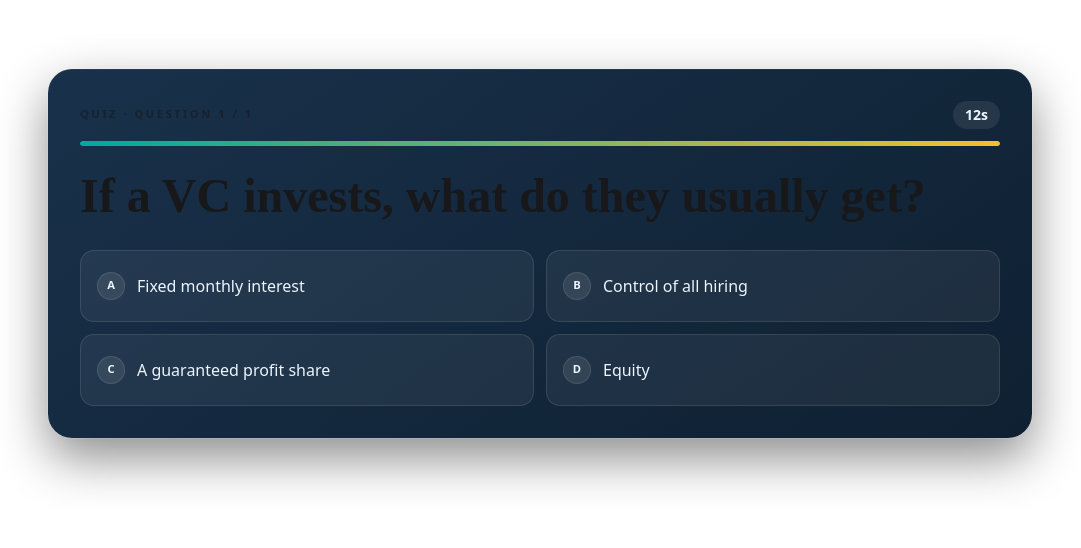
it: QuizRunner › keeps correctness feedback aligned after option shuffling
Click the button "A Fixed monthly interest": point(307, 286) [80,250,534,322]
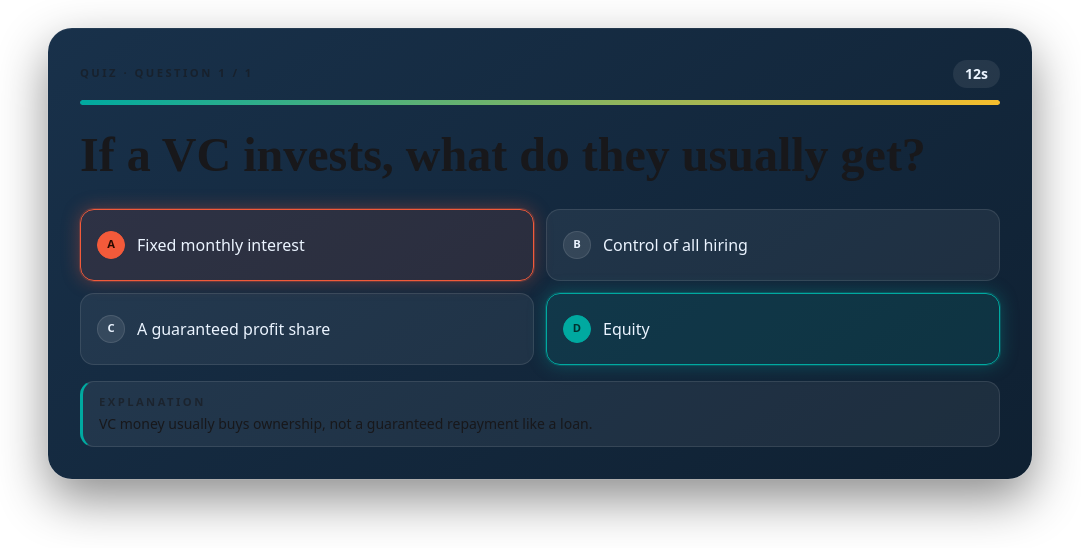
Result: the text "Explanation" is shown at [99,394,206,408]
